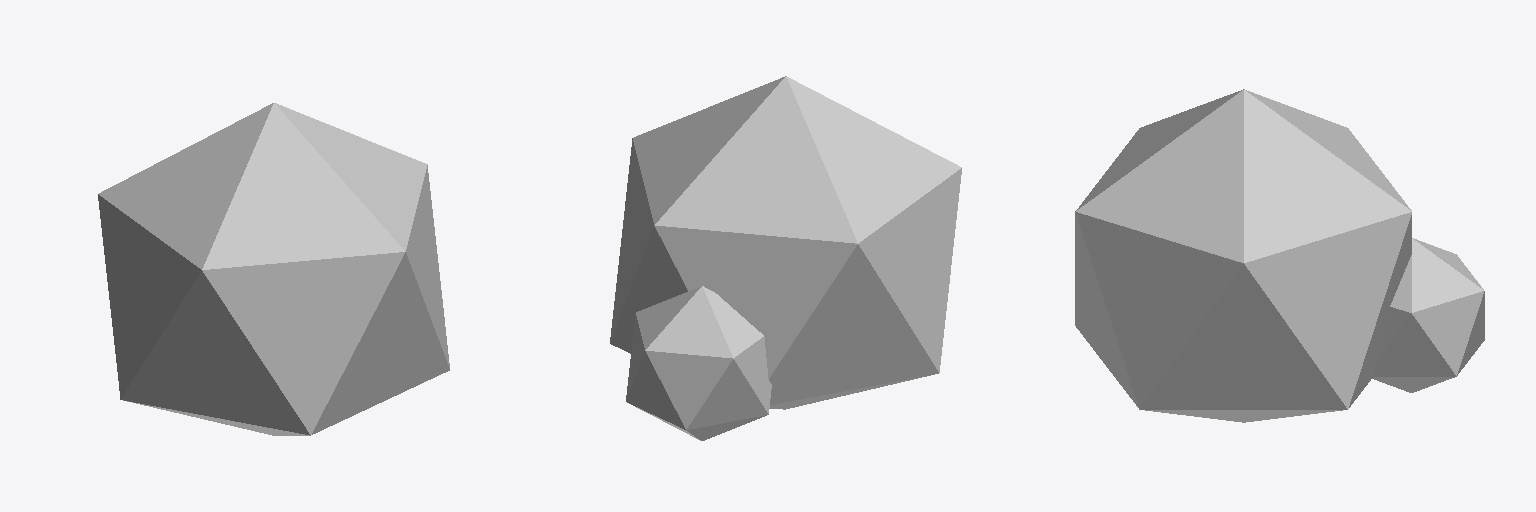
Rendered from UltraLP_cloud_1.obj.
3 renders of one model, left to right at view 1: azimuth 30°, elevation 25°; view 2: azimuth 150°, elevation 25°; view 3: azimuth 270°, elevation 25°, orthographic.
Parts seen in each view (by area): view 1: Icosphere; view 2: Icosphere, Icosphere.001; view 3: Icosphere, Icosphere.001.
Boxes of the visible parts, <box> form: Icosphere: <box>98,103,449,435</box>; Icosphere: <box>610,76,961,409</box>; Icosphere.001: <box>626,286,771,440</box>; Icosphere: <box>1075,89,1411,422</box>; Icosphere.001: <box>1372,238,1484,392</box>.
Bounding box in the file's own units: 3.45 × 3.58 × 3.99.